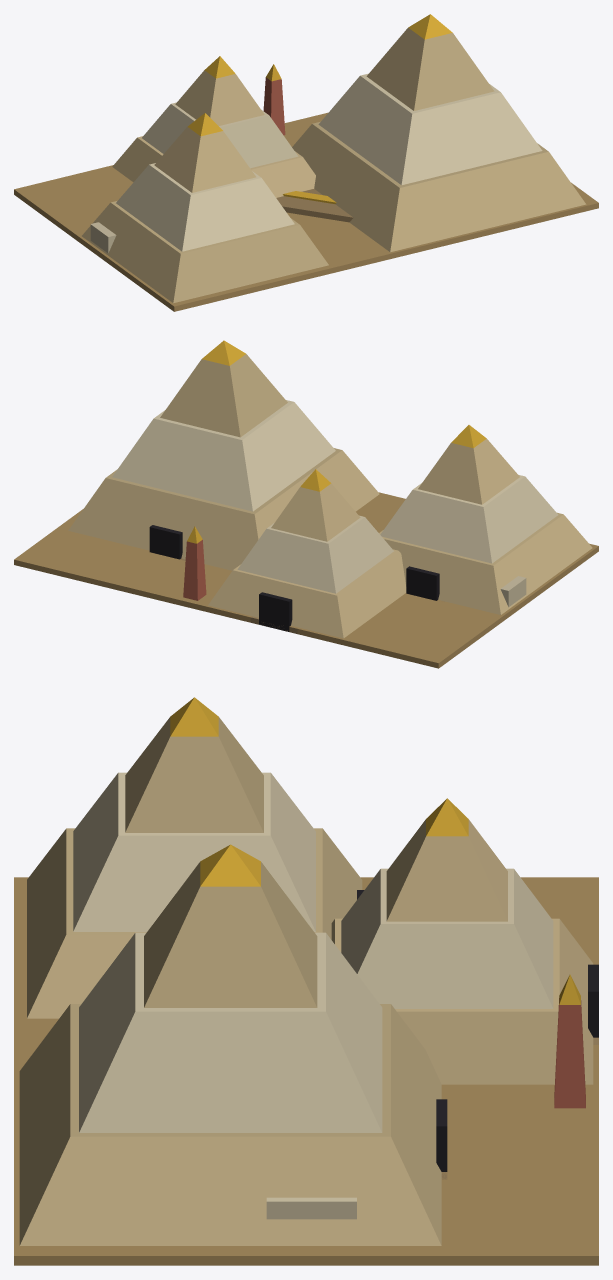
Rendered from Decor_PharaohPyramid_Queens.fbx.
3 renders of one model, top to bottom at view 1: azimuth 30°, elevation 25°; view 2: azimuth 150°, elevation 25°; view 3: azimuth 270°, elevation 25°, orthographic. The views are drawn at different scales.
Parts seen in each view (by area): view 1: Queens_Body; view 2: Queens_Body; view 3: Queens_Body.
Boxes of the visible parts, bbox=[...] form: Queens_Body: bbox=[14, 14, 598, 311]; Queens_Body: bbox=[14, 340, 598, 668]; Queens_Body: bbox=[14, 697, 598, 1265].
Bounding box in the file's own units: 24.8 × 9.9 × 16.2.
